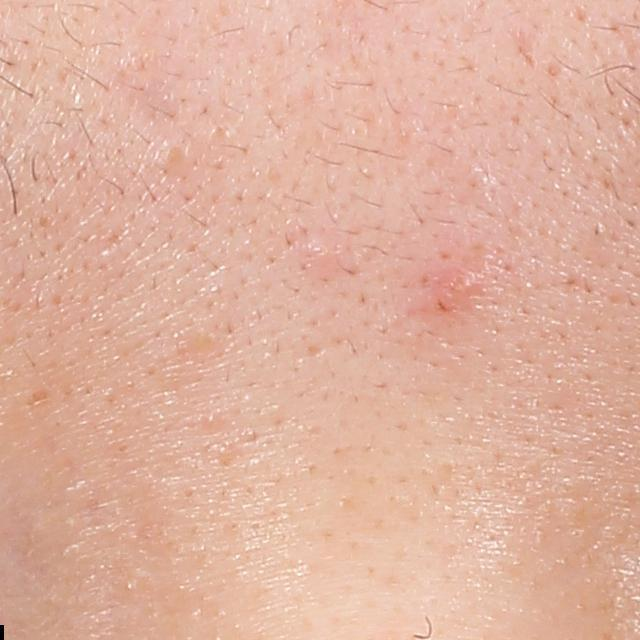comedo: (299, 238, 357, 284), (158, 141, 194, 175)
